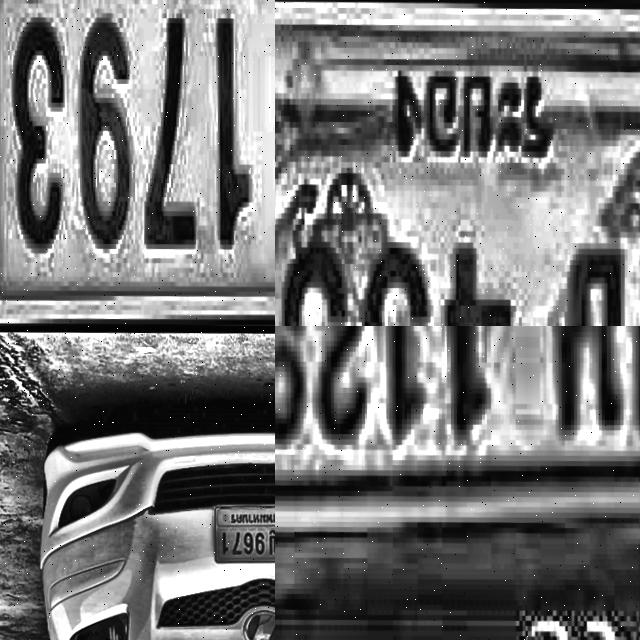license-plate: (275, 0, 640, 326), (0, 0, 275, 326), (275, 326, 640, 524), (211, 498, 275, 564)
